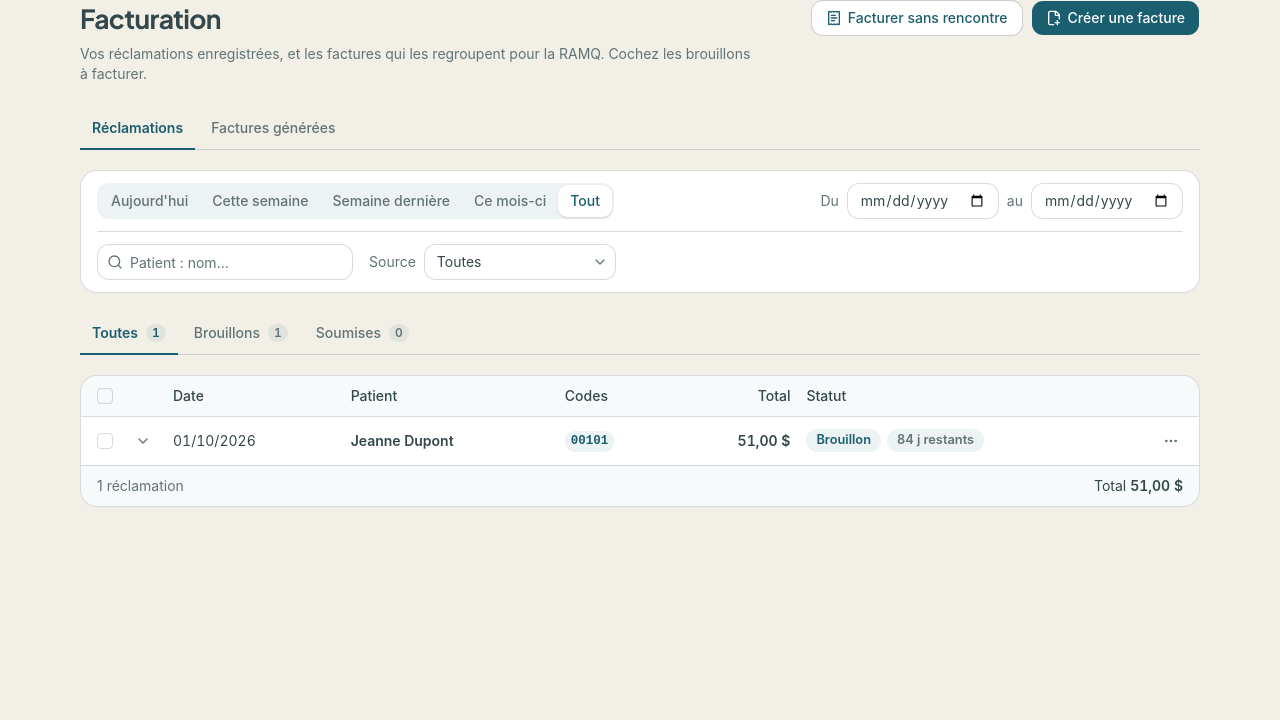
claims tab › deleting › asks first, then deletes the draft and re-reads the list
Click the button named "Actions — réclamation de Jeanne Dupont" at [1171, 440], box [1155, 424, 1187, 456]
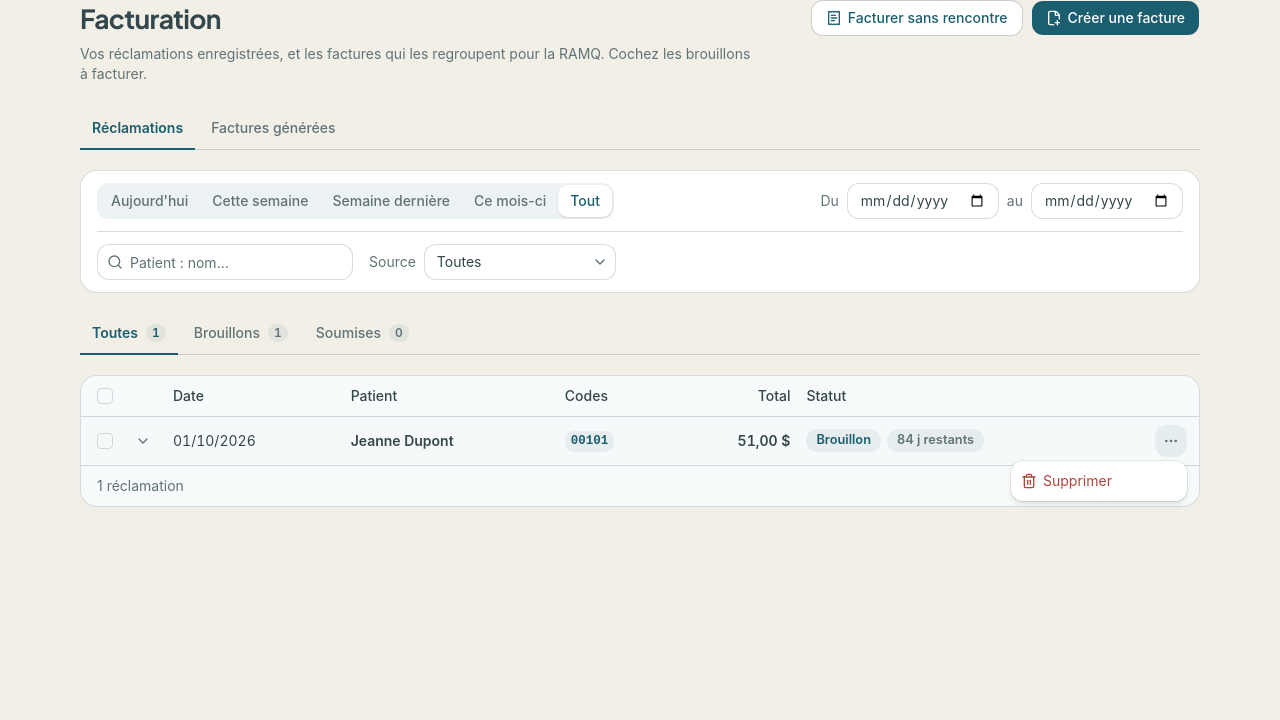
Click the menu item "Supprimer" at [1066, 480], box [1021, 472, 1112, 489]
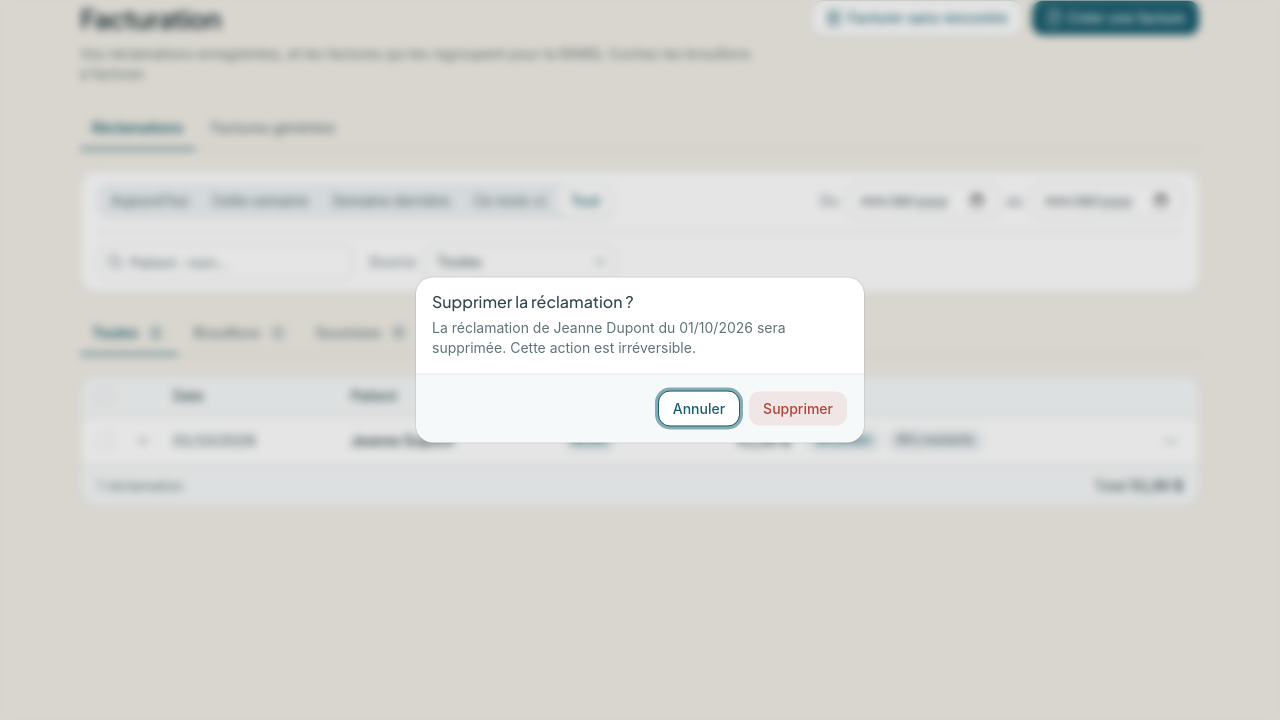
expect the text "La réclamation de Jeanne Dupont du 01/10/2026 sera supprimée" is shown: met, box [432, 318, 786, 356]
Click the button "Supprimer" at [798, 408], box [748, 390, 848, 426]
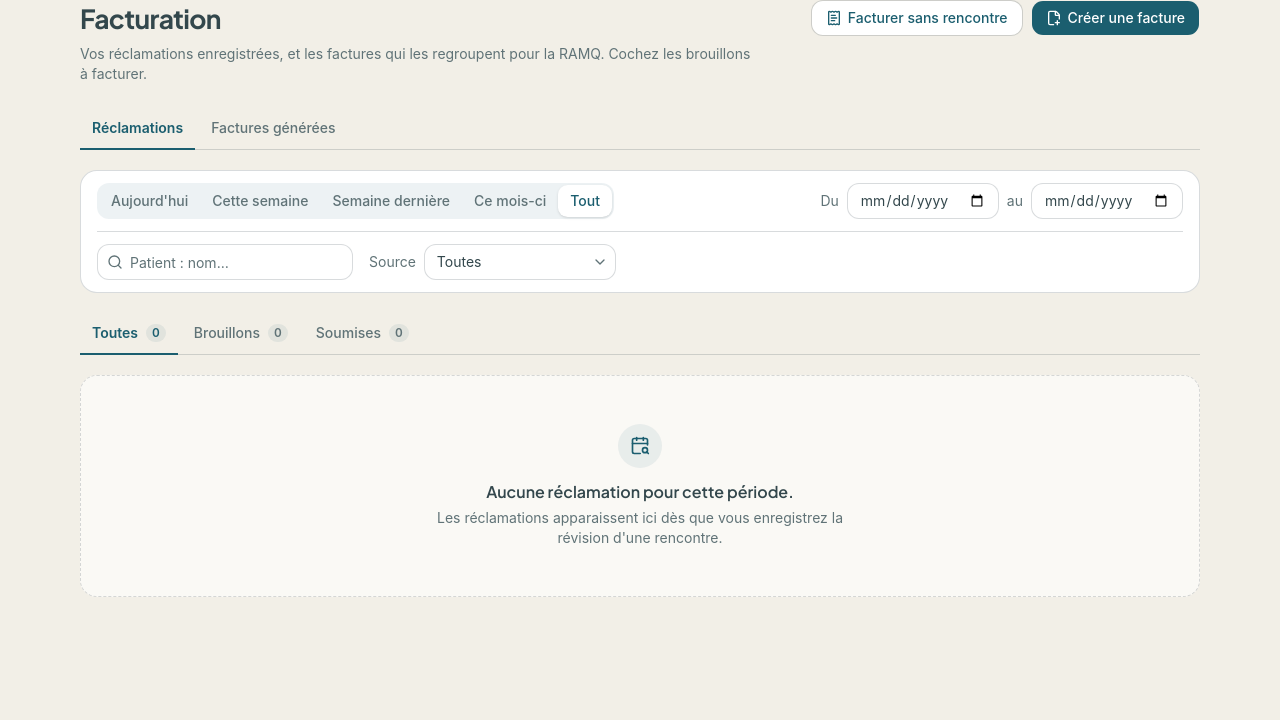
expect the text "Aucune réclamation pour cette période." is shown: met, box [486, 480, 794, 504]
